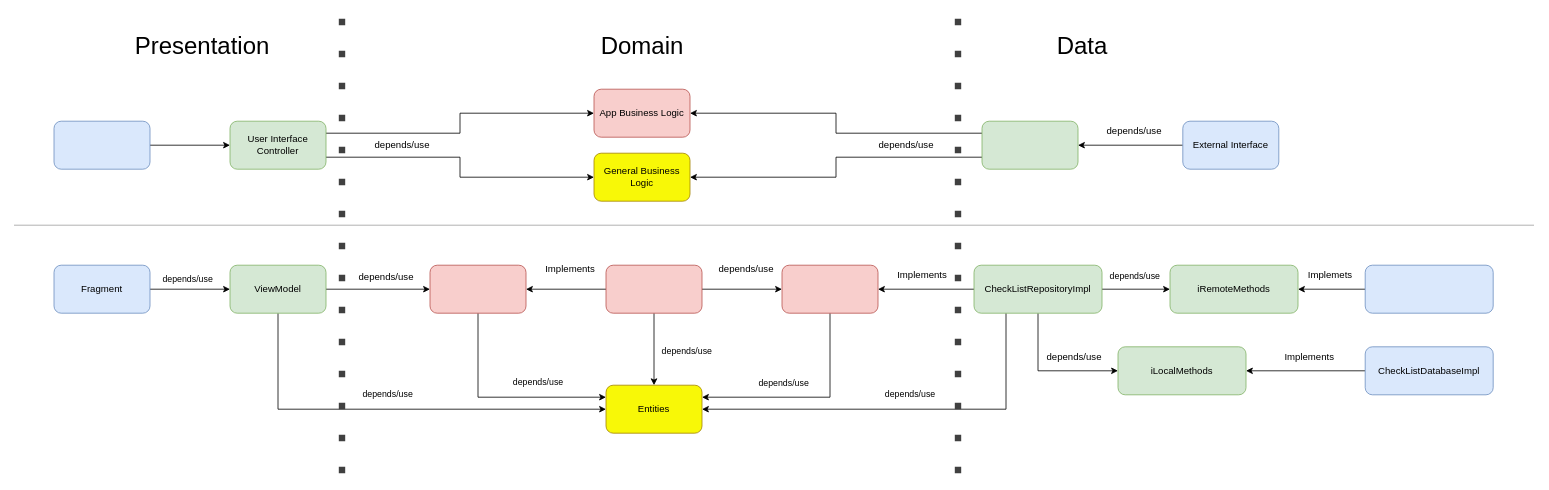
Image size: 1549x490. Some labels were removed from this diagram. The shapes that lost their labels are listed below. From the top down, each one's centre as x and y in pixels, then its label:
At pixel 101 144: "User Interface".
At pixel 1029 144: "External Interface Controller".
At pixel 477 288: "iCheckListUseCase".
At pixel 653 288: "CheckListInteractor".
At pixel 829 288: "iCheckListRepository".
At pixel 1428 288: "RetrofitCheckListImpl".
